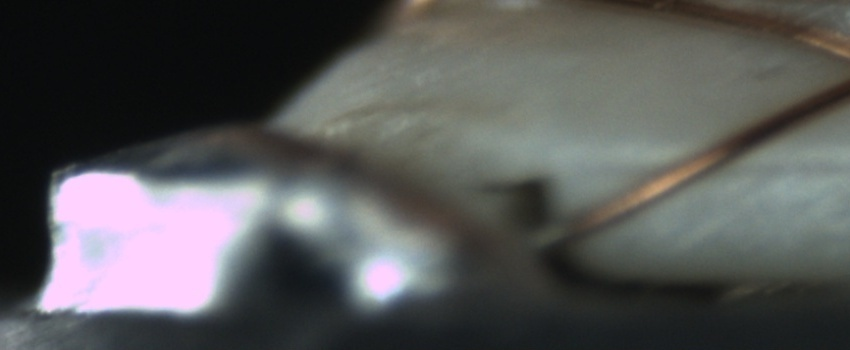DL: (615, 133, 850, 199)
